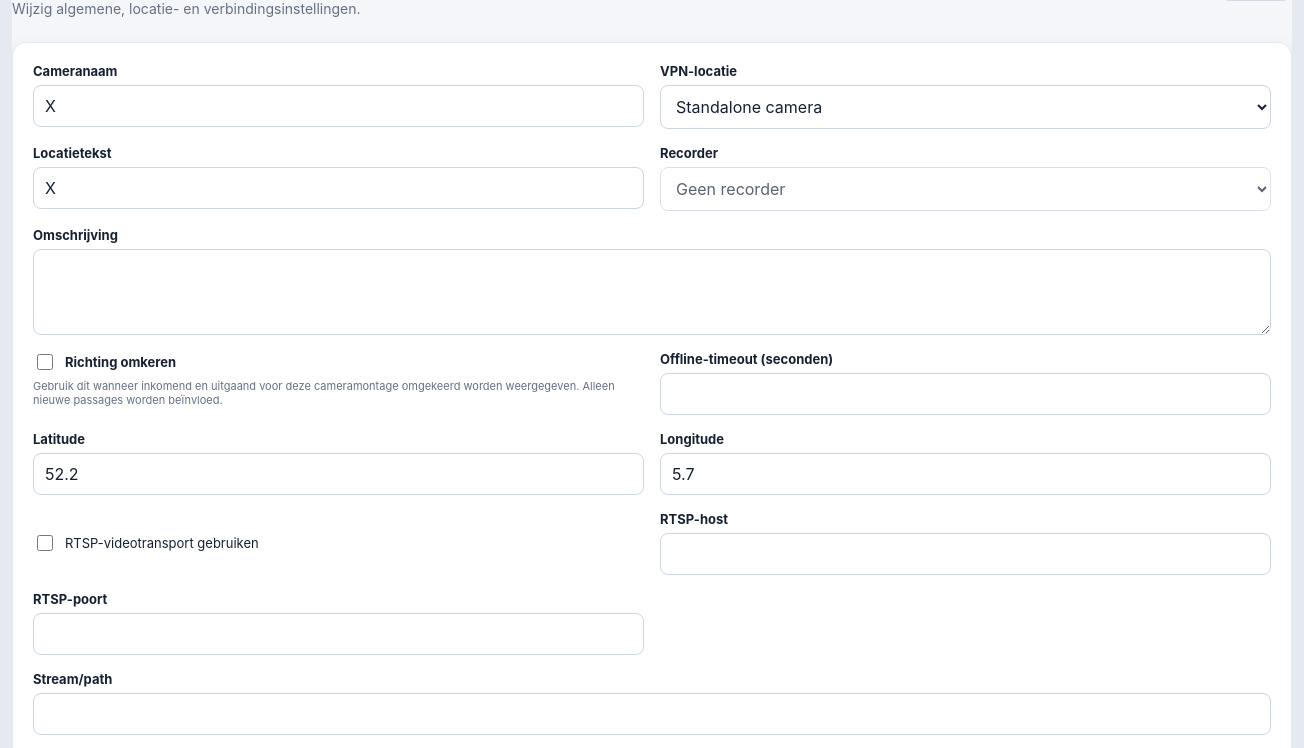
Test: clears optional coordinates explicitly without sending empty secrets or unrelated legacy fields
Click the checkbox labelled "Richting omkeren": (45, 362) [37,354,53,370]
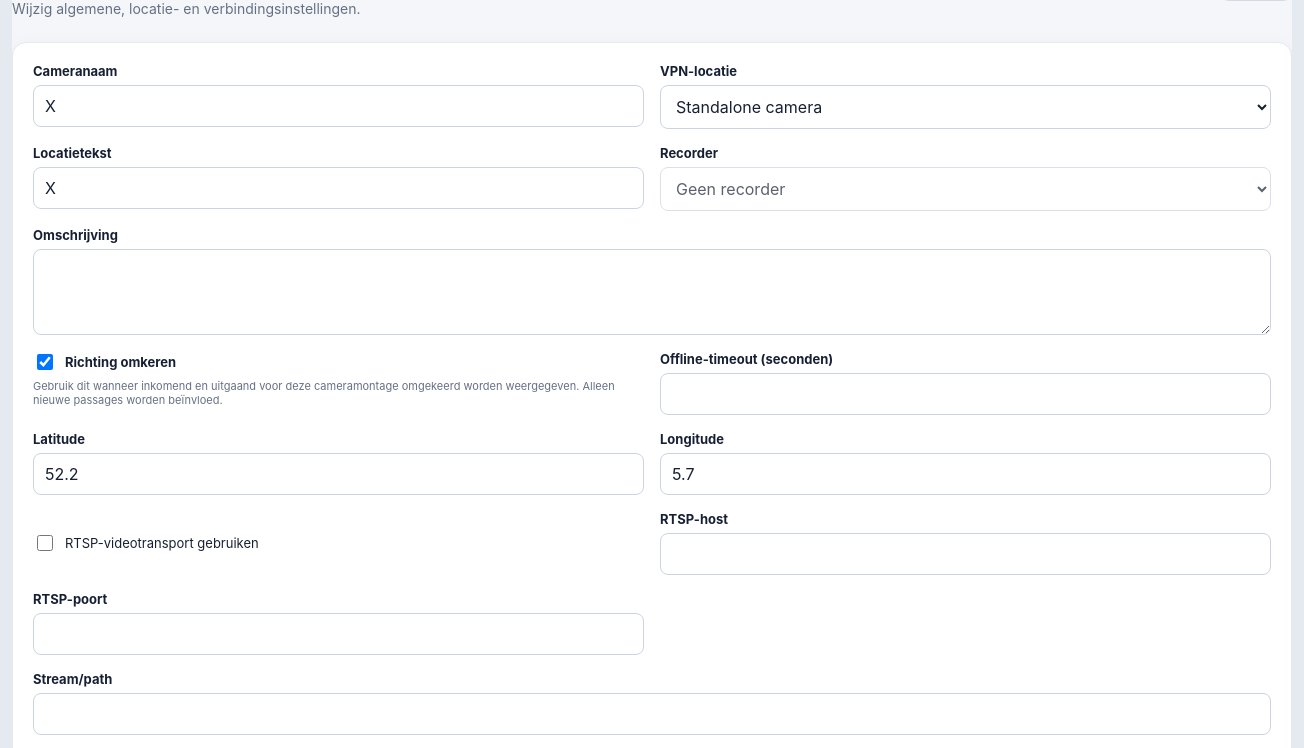
Clear the number field labelled "Latitude": (338, 474) [33,453,644,495]
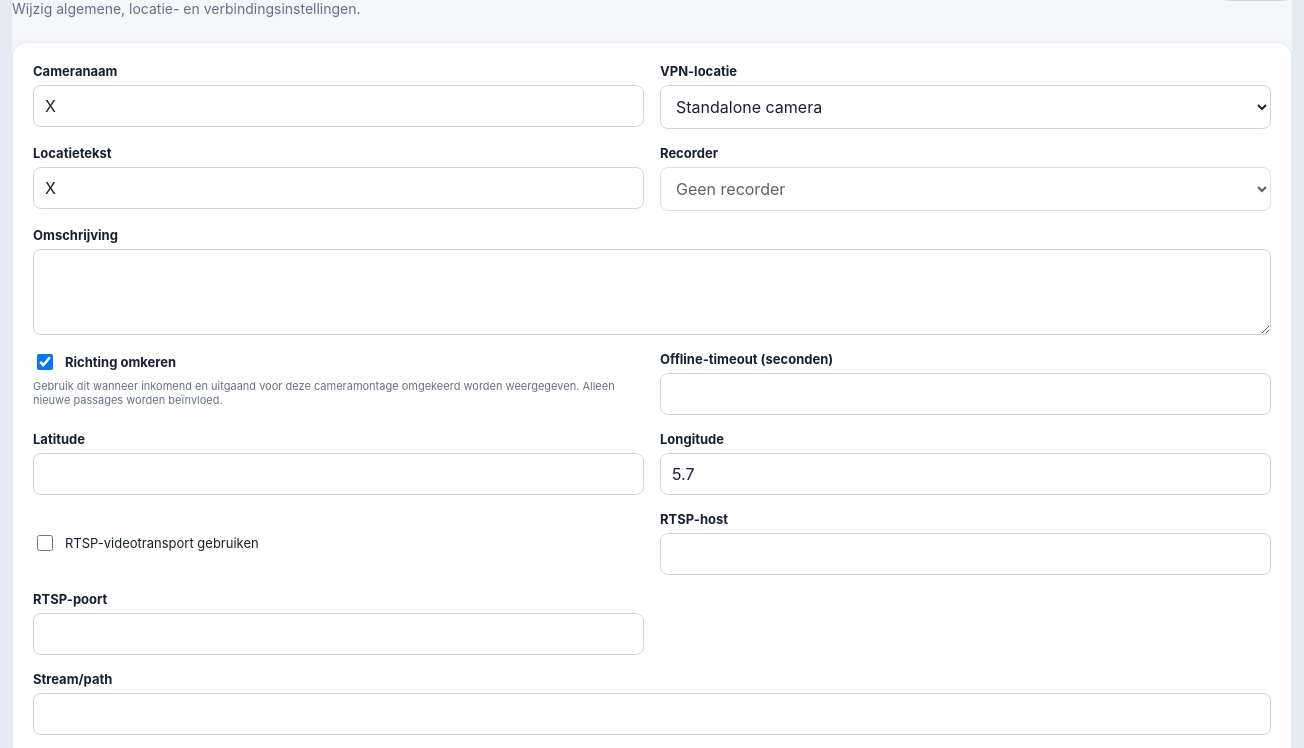
Clear the number field labelled "Longitude": (966, 474) [660,453,1271,495]
(page scrolled)
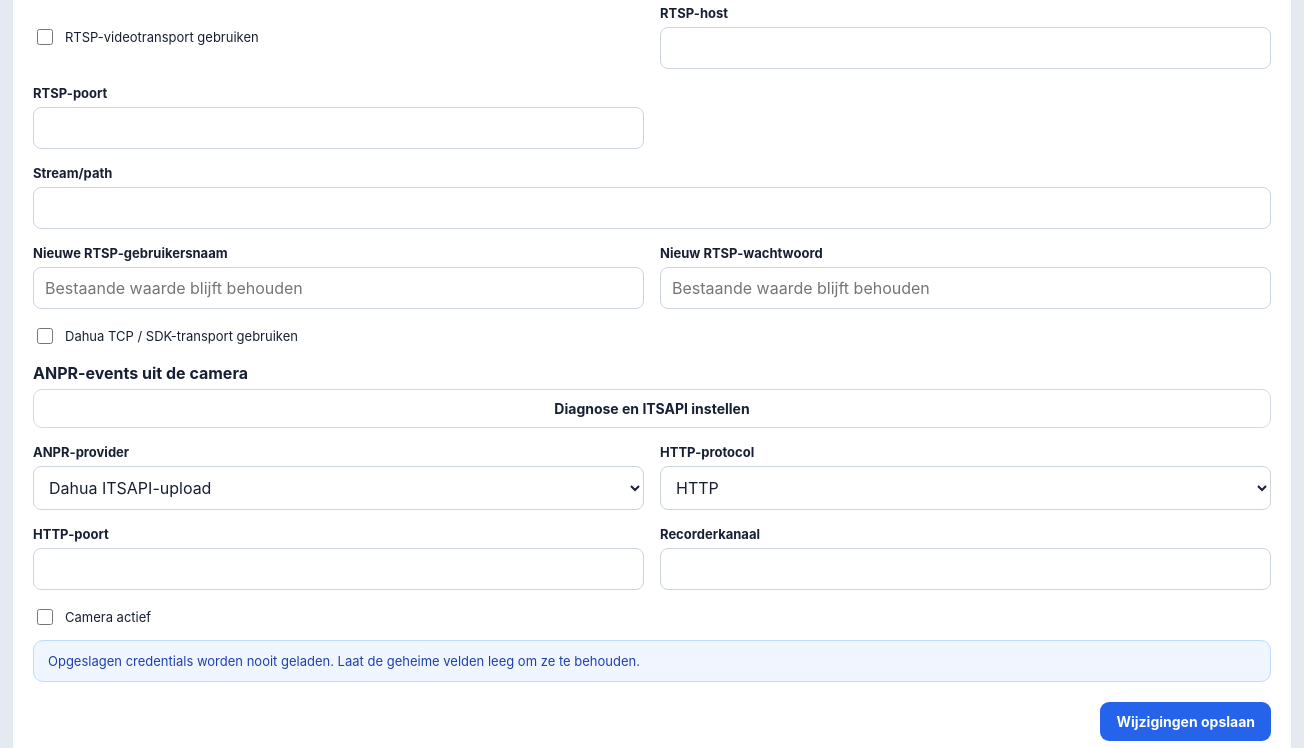
Click the button "Wijzigingen opslaan": (1186, 722) [1100,702,1271,741]
(page scrolled)
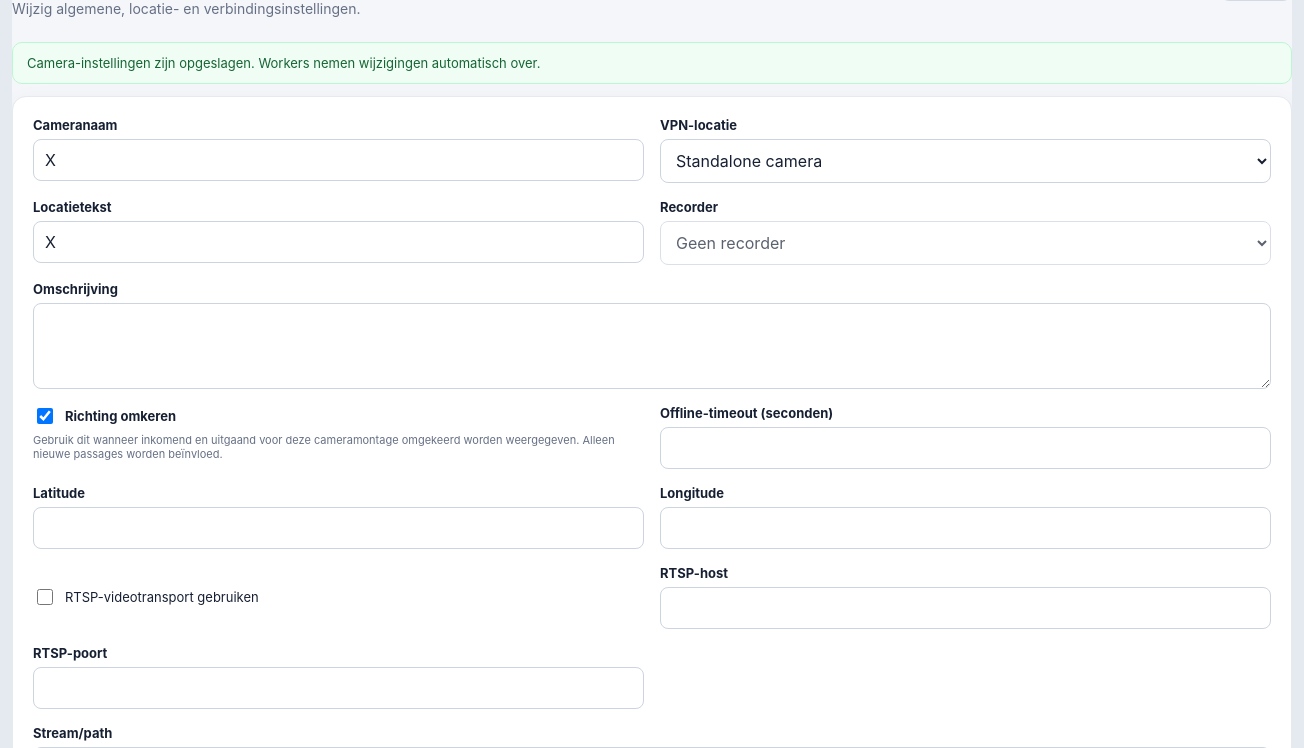
Expected: the message is shown, [12,42,1292,84]
